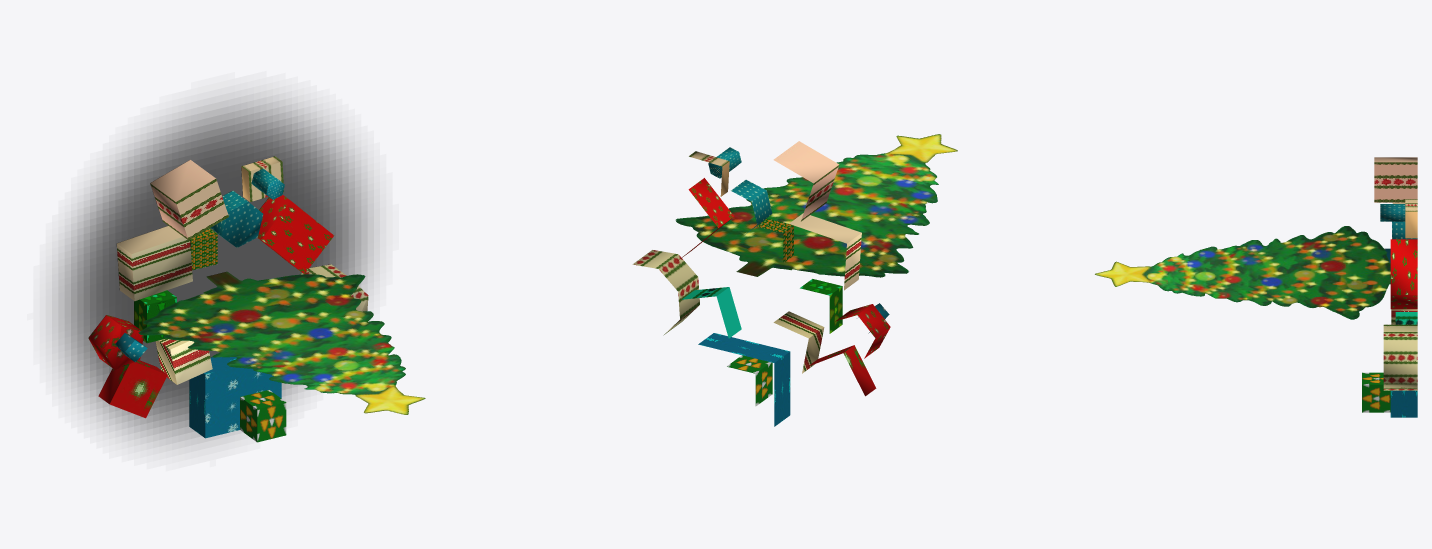
Rendered from prop_christmas_tree.glb.
3 renders of one model, left to right at view 1: azimuth 30°, elevation 25°; view 2: azimuth 150°, elevation 25°; view 3: azimuth 270°, elevation 25°, orthographic. The views are drawn at different scales.
Visible parts, largest first — view 1: shadow, p75_7__billboard, o2, o6, o3, o5, o9, o17_1, o2_1, o4, o7, o18 (+4 smaller); view 2: p75_7__billboard, o6, o3, o8, o2, o2_1, o5, o17_1, o16, o7, o18, o4 (+2 smaller); view 3: p75_7__billboard, o8, o3, o5, o17_1, o6, o3_1, o4_1.
Boxes of the visible parts, x1,y1,x2,y2 form: shadow: (52,94,373,447); p75_7__billboard: (138,271,425,414); o2: (117,226,192,301); o6: (189,357,281,438); o3: (150,159,228,240); o5: (257,195,334,273); o9: (98,360,167,418); o17_1: (240,390,286,442); o2_1: (155,338,212,384); o4: (210,191,263,247); o7: (88,315,143,369); o18: (134,290,176,343); p75_7__billboard: (675,134,957,277); o6: (698,333,790,426); o3: (773,141,839,221); o8: (632,250,699,335); o2: (789,213,861,290); o2_1: (773,311,824,373); o5: (678,178,734,260); o17_1: (727,355,772,406); o16: (682,287,741,338); o7: (835,304,890,358); o18: (800,279,842,333); o4: (731,179,772,235); p75_7__billboard: (1095,226,1390,319); o8: (1383,324,1417,390); o3: (1374,157,1417,202); o5: (1390,239,1417,309); o17_1: (1362,372,1390,412); o6: (1390,390,1417,417); o3_1: (1405,199,1417,238); o4_1: (1380,204,1405,221).
Size of the model in its own units: 26.44 by 26.44 by 22.
7 materials, 6 textured.
